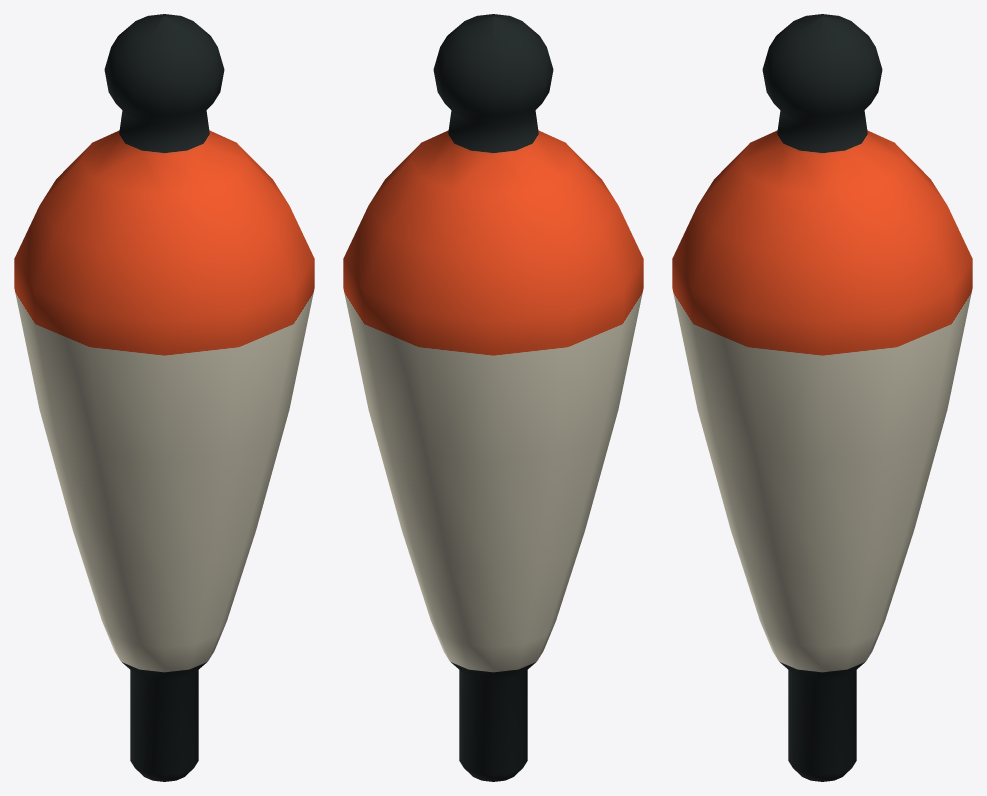
3 views of the same model, side by side, from view 1: azimuth 30°, elevation 25°; view 2: azimuth 150°, elevation 25°; view 3: azimuth 270°, elevation 25° (orthographic).
Parts seen in each view (by area): view 1: F40_Float; view 2: F40_Float; view 3: F40_Float.
Boxes of the visible parts, box(x1,y1,x2,y2) form: F40_Float: box(14, 14, 314, 781); F40_Float: box(343, 14, 643, 781); F40_Float: box(672, 14, 972, 781).
Size of the model in its own units: 0.00972 by 0.027 by 0.00972.
Materials: 1 (1 with a texture image).
